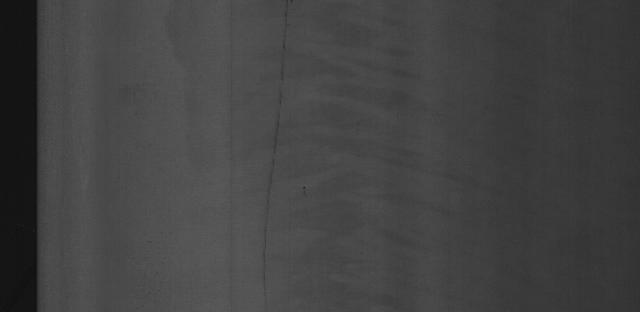inclusion: (253, 7, 292, 303)
water_spot: (306, 19, 429, 301)
